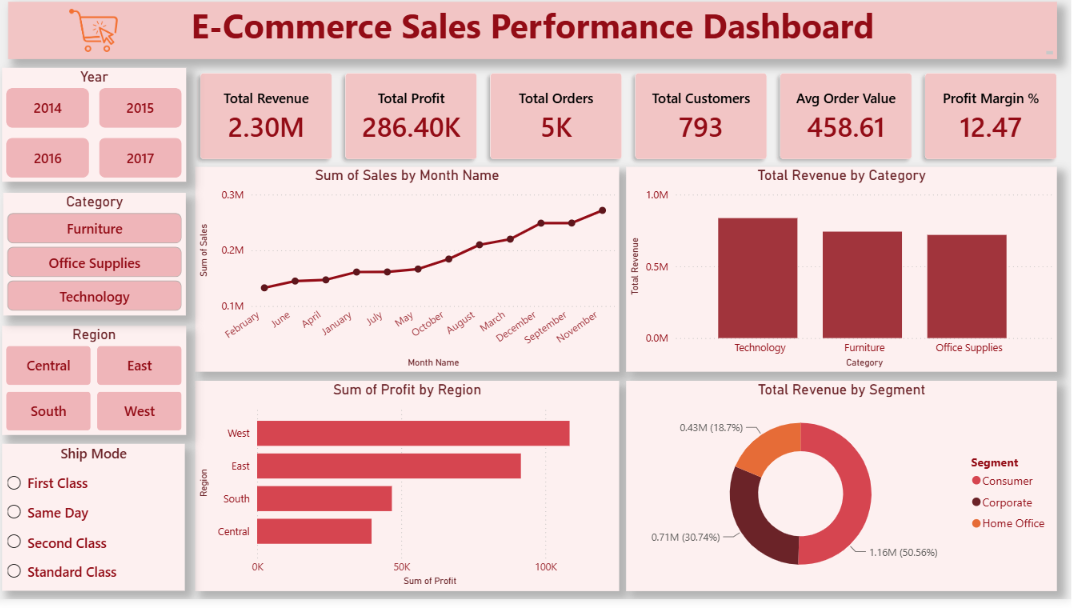

The page's visual inventory and layout, read from the dashboard file:
{"tool":"powerbi","page":{"name":"Dashboard","canvas":[1280,720],"ordinal":0},"visuals":[{"type":"textbox","title":"E-Commerce Sales Performance Dashboard","box":[17.8,10.7,1244.9,67.6],"z":0},{"type":"cardVisual","fields":{"Data":["Measure.Total Revenue","Measure.Total Profit","Measure.Total Orders","Measure.Total Customers","Measure.Avg Order Value","Measure.Profit Margin %"]},"box":[229,78.3,1051.4,136.5],"z":1},{"type":"lineChart","fields":{"Category":["Date Table.Month Name"],"Y":["Sum(public customer.Sales)"]},"box":[239.7,206.5,503.2,243.3],"z":2},{"type":"columnChart","fields":{"Category":["public customer.Category"],"Y":["Measure.Total Revenue"]},"box":[751.2,206.5,511.5,243.3],"z":3},{"type":"clusteredBarChart","fields":{"Category":["public customer.Region"],"Y":["Sum(public customer.Profit)"]},"box":[239.7,460.5,503.2,249.2],"z":4},{"type":"donutChart","fields":{"Category":["public customer.Segment"],"Y":["Measure.Total Revenue"]},"box":[751.2,460.5,511.5,249.2],"z":5},{"type":"advancedSlicerVisual","fields":{"Values":["Date Table.Year"]},"box":[10.7,89,218.4,135.3],"z":6},{"type":"advancedSlicerVisual","fields":{"Values":["public customer.Region"]},"box":[10.7,395.2,218.4,129.4],"z":7},{"type":"advancedSlicerVisual","fields":{"Values":["public customer.Category"]},"box":[11.9,237.3,217.2,146],"z":8},{"type":"listSlicer","fields":{"Values":["public customer.Ship Mode"]},"box":[10.7,535.2,217.2,174.4],"z":9},{"type":"image","box":[51,19,136.5,51],"z":10}]}

Visuals, with their boxes in screenshot pixels (x1, y1, x2, y2), scaled from the page's 1280x720 canvas onto the 1072x608 screenshot:
"E-Commerce Sales Performance Dashboard" textbox: <box>15,9,1058,66</box>
cardVisual - Measure.Total Revenue x Measure.Total Profit: <box>192,66,1071,181</box>
lineChart - Date Table.Month Name x Sum(public customer.Sales): <box>201,174,622,380</box>
columnChart - public customer.Category x Measure.Total Revenue: <box>629,174,1058,380</box>
clusteredBarChart - public customer.Region x Sum(public customer.Profit): <box>201,389,622,599</box>
donutChart - public customer.Segment x Measure.Total Revenue: <box>629,389,1058,599</box>
advancedSlicerVisual - Date Table.Year: <box>9,75,192,189</box>
advancedSlicerVisual - public customer.Region: <box>9,334,192,443</box>
advancedSlicerVisual - public customer.Category: <box>10,200,192,324</box>
listSlicer - public customer.Ship Mode: <box>9,452,191,599</box>
image: <box>43,16,157,59</box>
